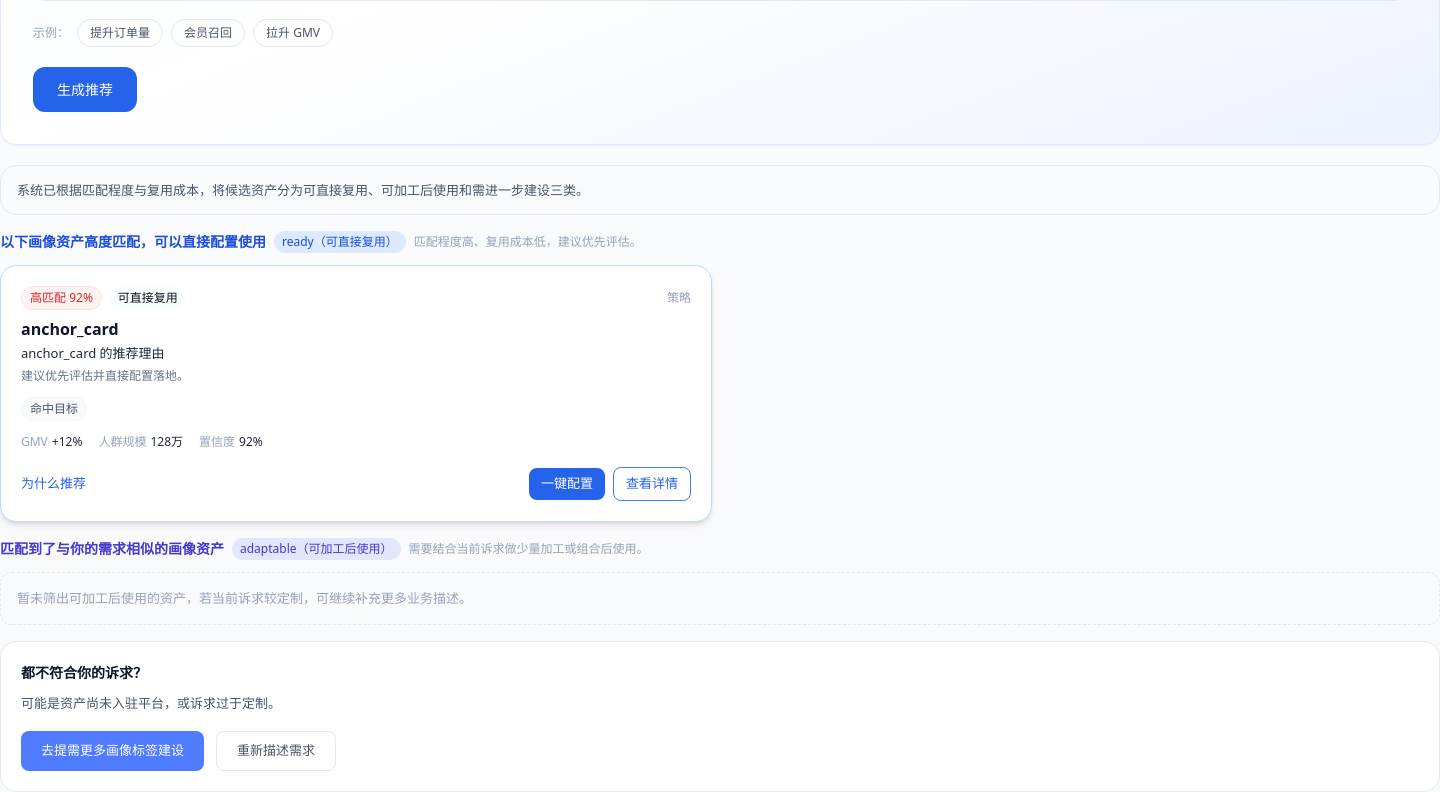
Scenario: RecommendationHomePanel › 卡片的为什么推荐动作会打开详情并定位到原因模块
The width and height of the screenshot is (1440, 792).
(page scrolled)
Click the button "为什么推荐" at (54, 484), box [21,474,86,494]
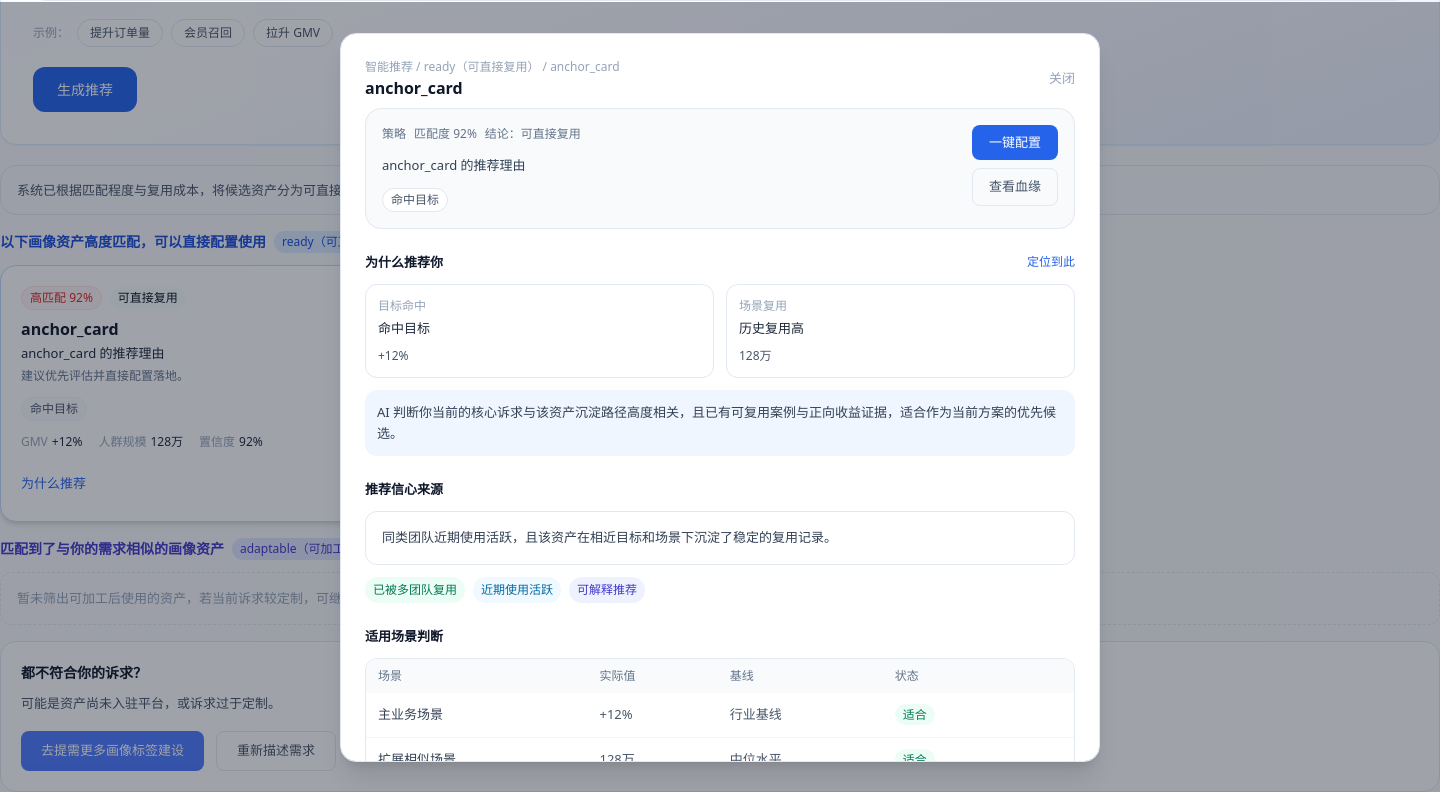
Result: the dialog named "anchor_card详情" is shown at [340,32,1100,762]
